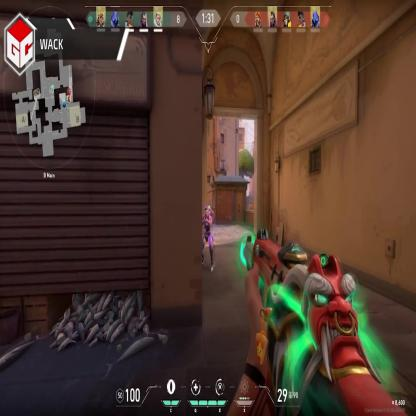enemy: (200, 204, 214, 271)
enemy_head: (204, 206, 209, 219)
